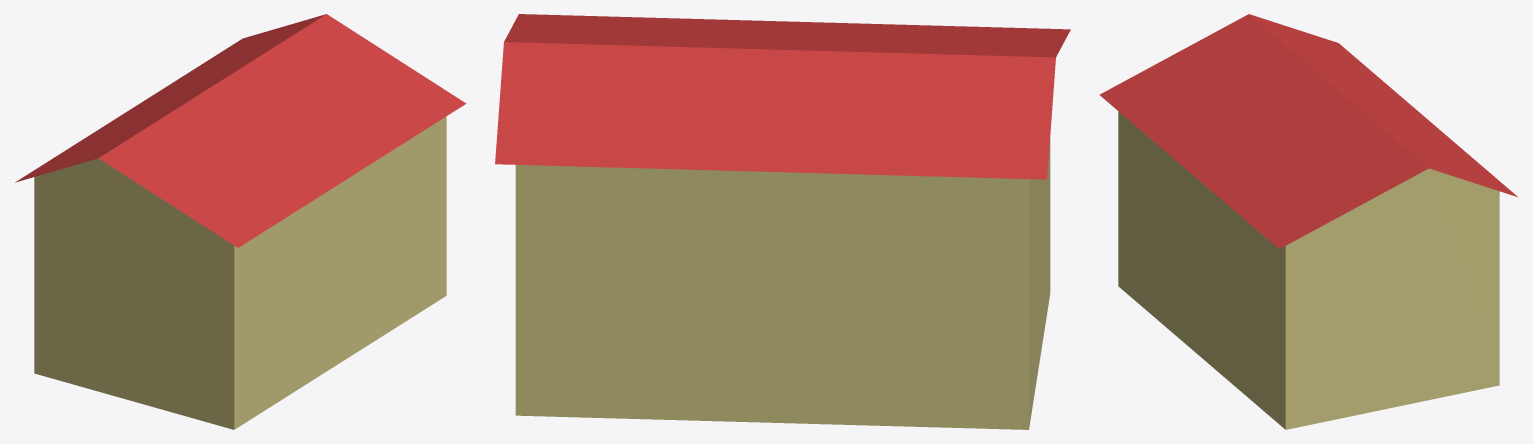
3 views of the same model, side by side, from view 1: azimuth 30°, elevation 25°; view 2: azimuth 150°, elevation 25°; view 3: azimuth 270°, elevation 25° (orthographic). The views are drawn at different scales.
Bounding box in the file's own units: 16.9 × 14.66 × 9.2.
